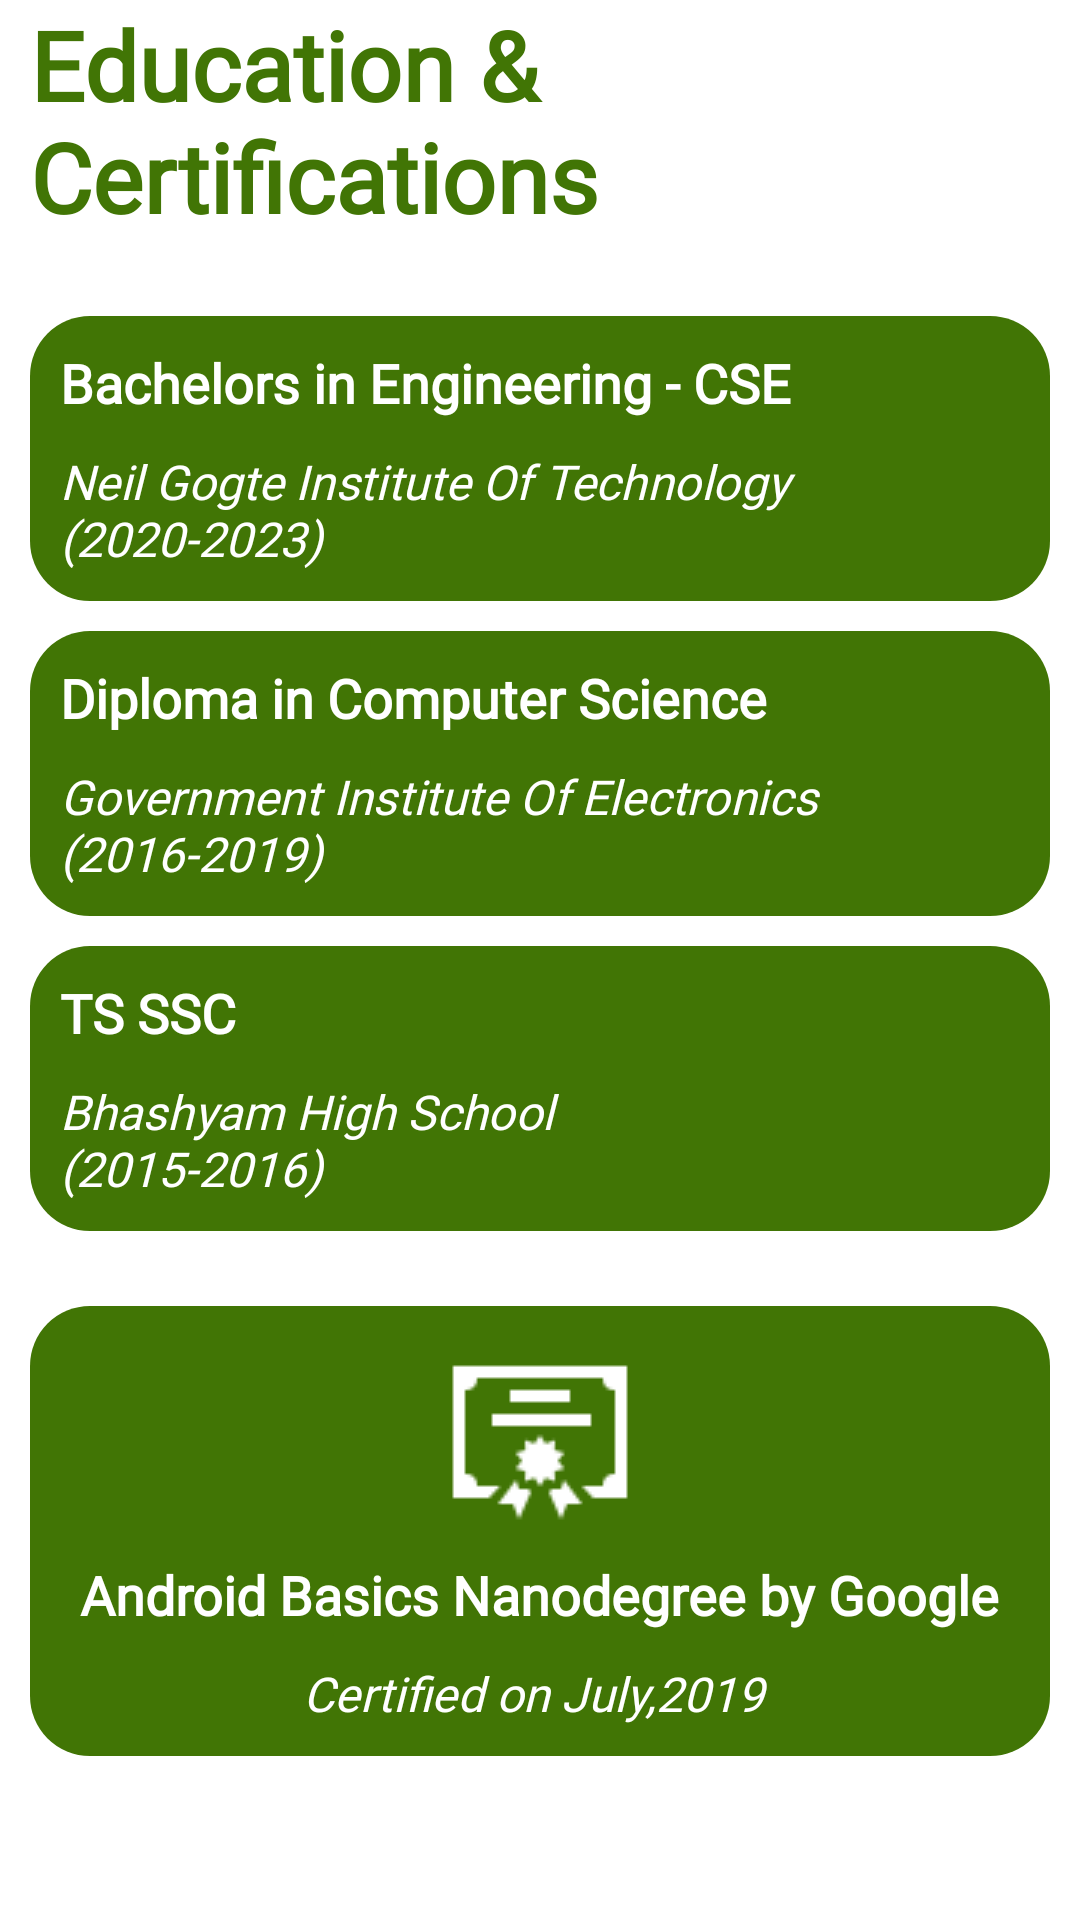

Named icons in this screenshot (1080px x 1920px) and their bounding boxes, detection(x1, y1, x2, y2):
Certificate Icon: detection(452, 1365, 628, 1519)
